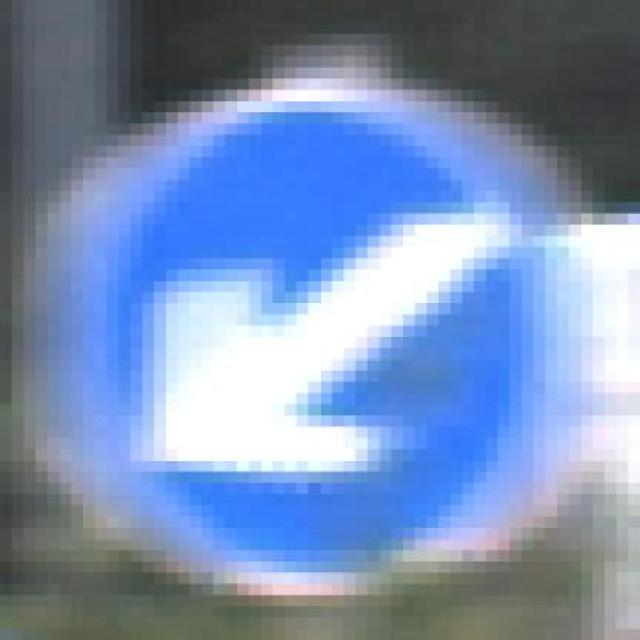Keep-Left: (83, 90, 534, 596)
